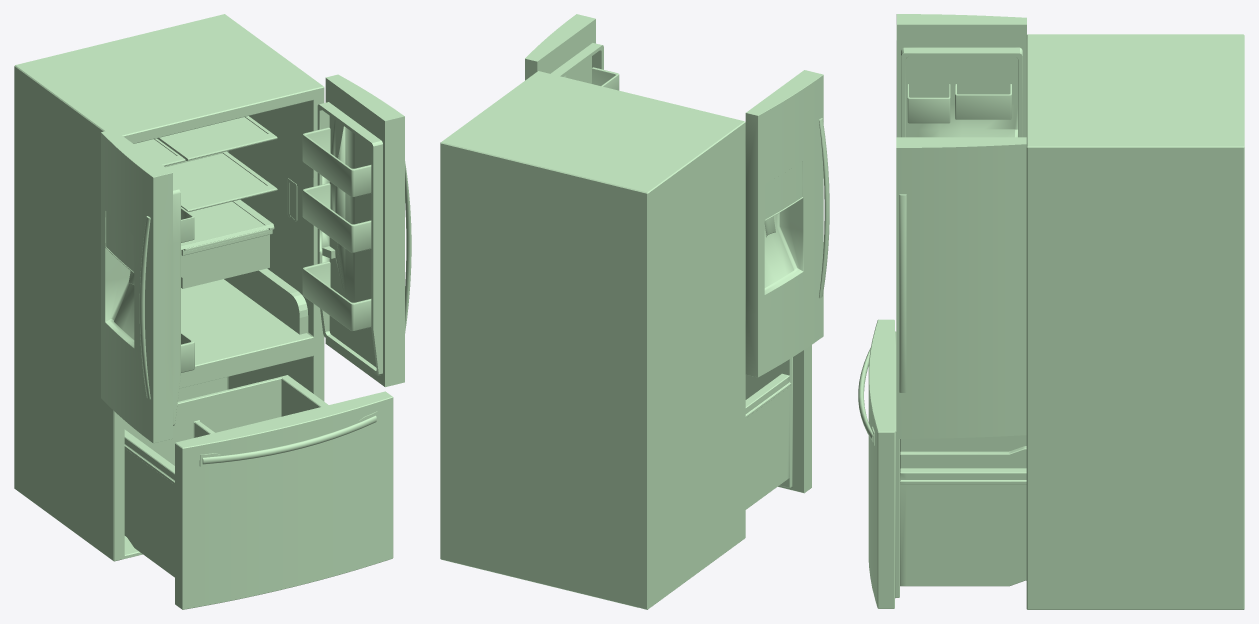
The model's file is SM_Fridge.fbx.
3 views of the same model, side by side, from view 1: azimuth 30°, elevation 25°; view 2: azimuth 150°, elevation 25°; view 3: azimuth 270°, elevation 25° (orthographic). The views are drawn at different scales.
Visible parts, largest first — view 1: Att_00_high, Att_11_high, Att_13_high, Att_12_high; view 2: Att_00_high, Att_12_high, Att_11_high, Att_13_high; view 3: Att_00_high, Att_13_high, Att_11_high, Att_12_high.
Boxes of the visible parts, <box> form: Att_00_high: <box>14,14,324,561</box>; Att_11_high: <box>124,375,393,609</box>; Att_13_high: <box>302,74,411,387</box>; Att_12_high: <box>101,129,194,443</box>; Att_00_high: <box>440,71,745,609</box>; Att_12_high: <box>745,70,829,377</box>; Att_11_high: <box>745,345,811,509</box>; Att_13_high: <box>525,14,619,90</box>; Att_00_high: <box>1026,34,1244,609</box>; Att_13_high: <box>896,137,1026,438</box>; Att_11_high: <box>858,319,1026,608</box>; Att_12_high: <box>896,14,1026,137</box>.
Size of the model in its own units: 116 by 179 by 132.
